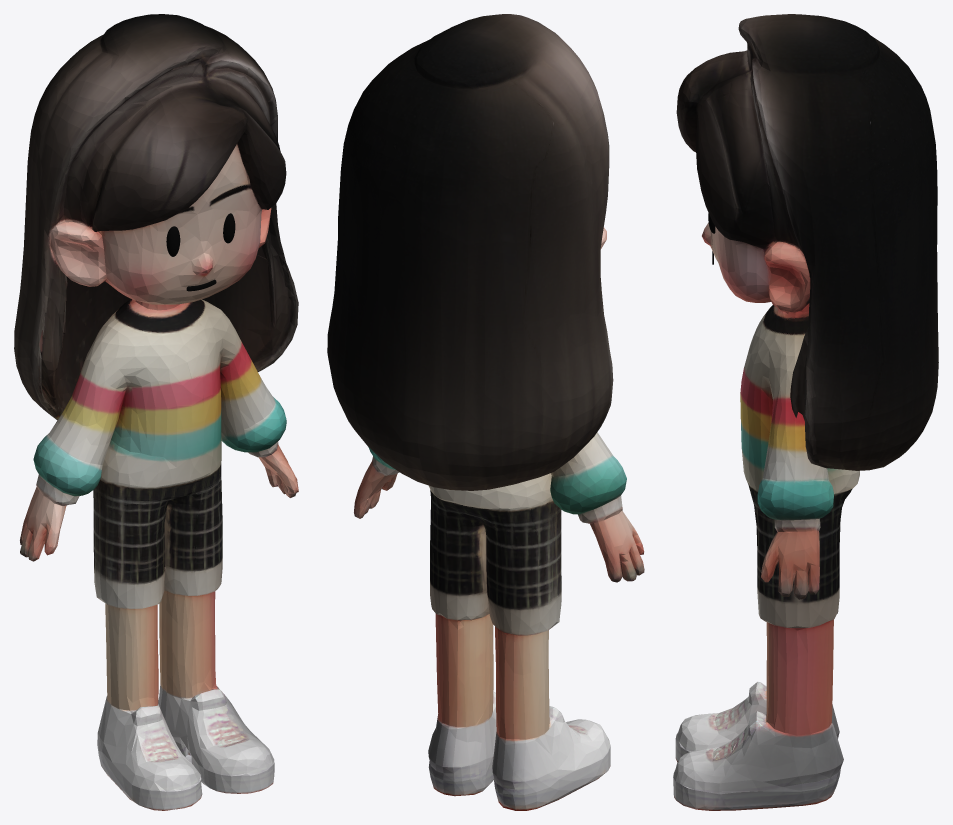
Rendered from girl-char.glb.
The picture shows the model from 3 angles, left to right: view 1: azimuth 30°, elevation 25°; view 2: azimuth 150°, elevation 25°; view 3: azimuth 270°, elevation 25°; orthographic projection. The views are drawn at different scales.
Parts seen in each view (by area): view 1: Girl; view 2: Girl; view 3: Girl.
Boxes of the visible parts, x1,y1,x2,y2 form: Girl: (14,14,298,810); Girl: (327,14,644,810); Girl: (673,14,938,810).
Bounding box in the file's own units: 0.4026 × 0.9992 × 0.3175.
2 materials, 1 textured.
